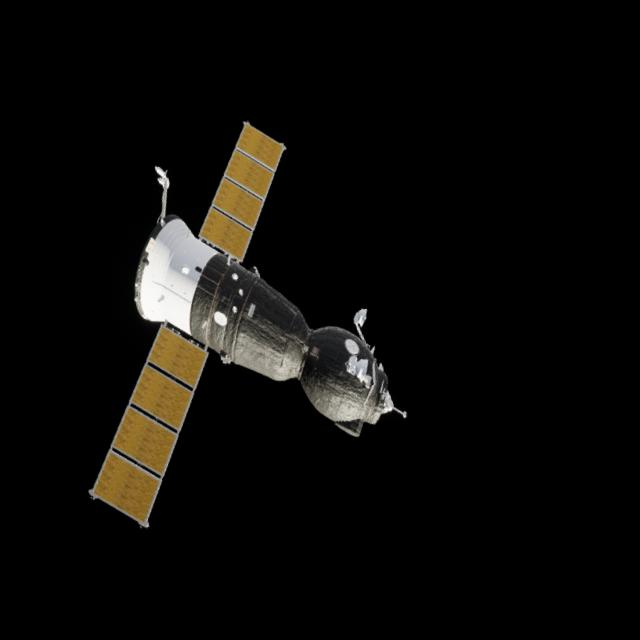Satellites revolving around earth: (18, 98, 420, 540)
